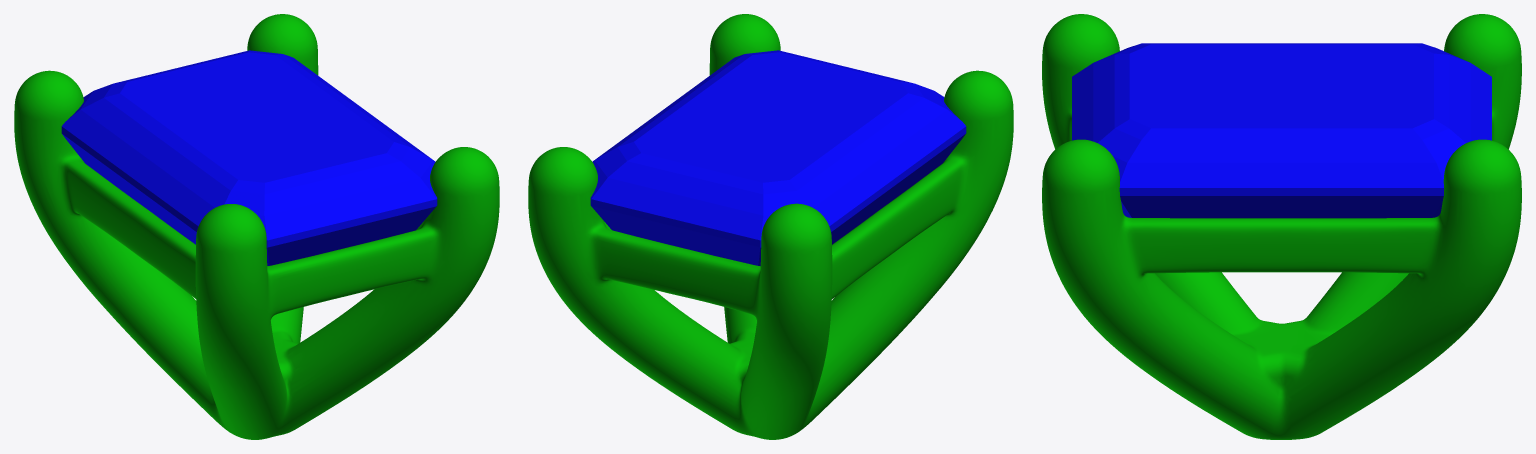
3 views of the same model, side by side, from view 1: azimuth 30°, elevation 25°; view 2: azimuth 150°, elevation 25°; view 3: azimuth 270°, elevation 25° (orthographic). The views are drawn at different scales.
Parts seen in each view (by area): view 1: Metal01, Diamond_Emerald; view 2: Metal01, Diamond_Emerald; view 3: Metal01, Diamond_Emerald.
Boxes of the visible parts, box(x1,y1,x2,y2) form: Metal01: box(14, 14, 499, 439); Diamond_Emerald: box(61, 50, 437, 265); Metal01: box(528, 14, 1013, 439); Diamond_Emerald: box(590, 50, 966, 265); Metal01: box(1042, 14, 1521, 439); Diamond_Emerald: box(1072, 43, 1491, 218).
Bounding box in the file's own units: 4.74 × 4.83 × 6.07.
